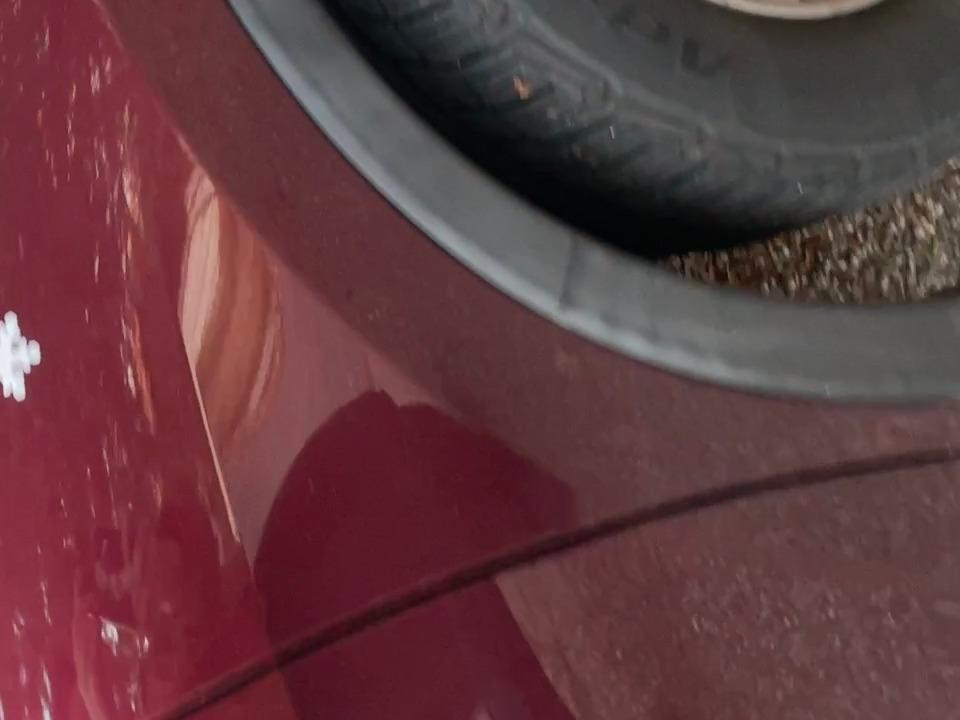dent: (0, 303, 49, 416)
